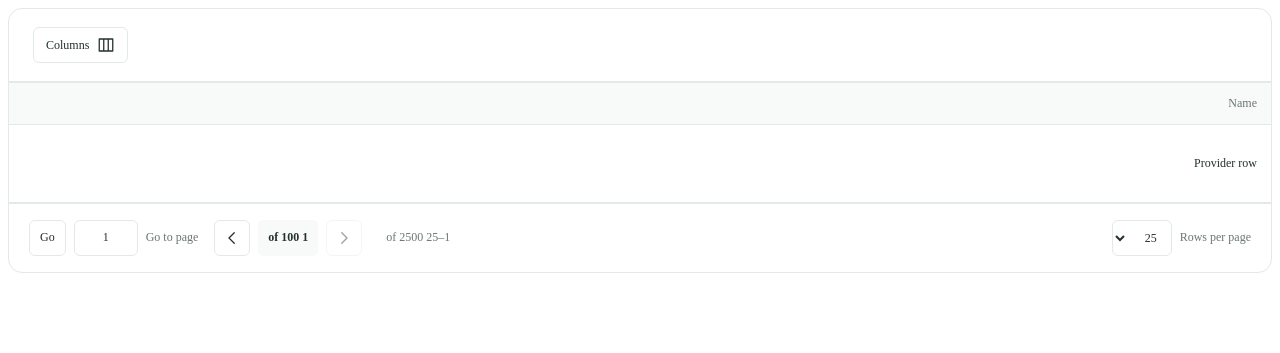
Test: SmartDataTable › requests only the committed target page and blocks pagination while that request is pending
Replace the text in the field labelled "Go to page" with "۳": (106, 238) [74, 220, 138, 256]
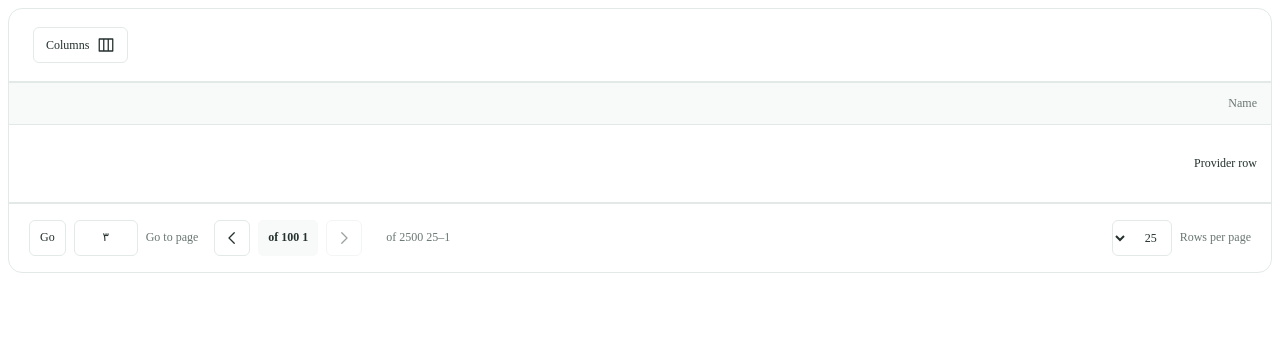
Replace the text in the field labelled "Go to page" with "۳۰": (106, 238) [74, 220, 138, 256]
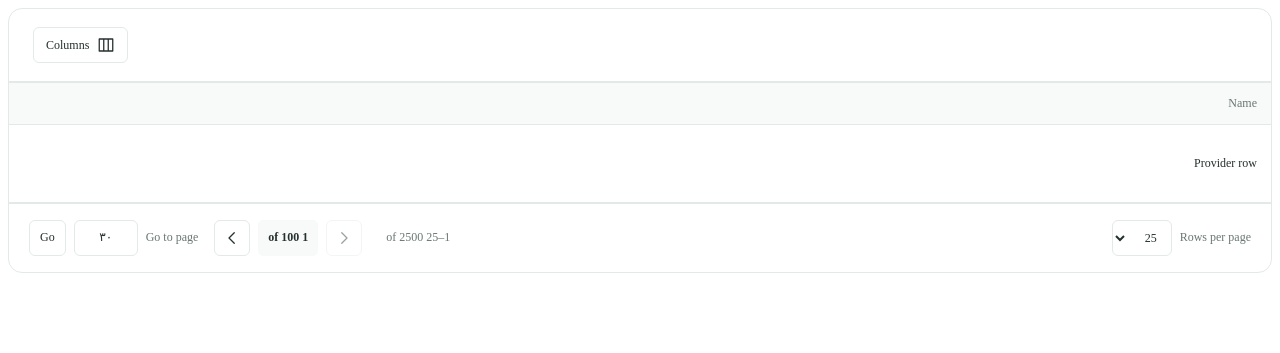
Submit the form, box [29, 220, 198, 256]
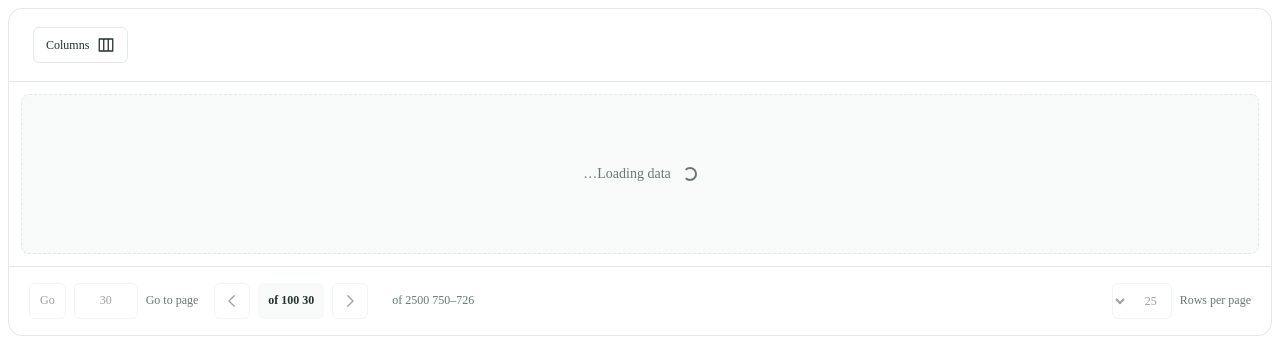
Result: the field labelled "Go to page" is disabled
Replace the text in the field labelled "Go to page" with "40": (106, 301) [74, 283, 138, 319]
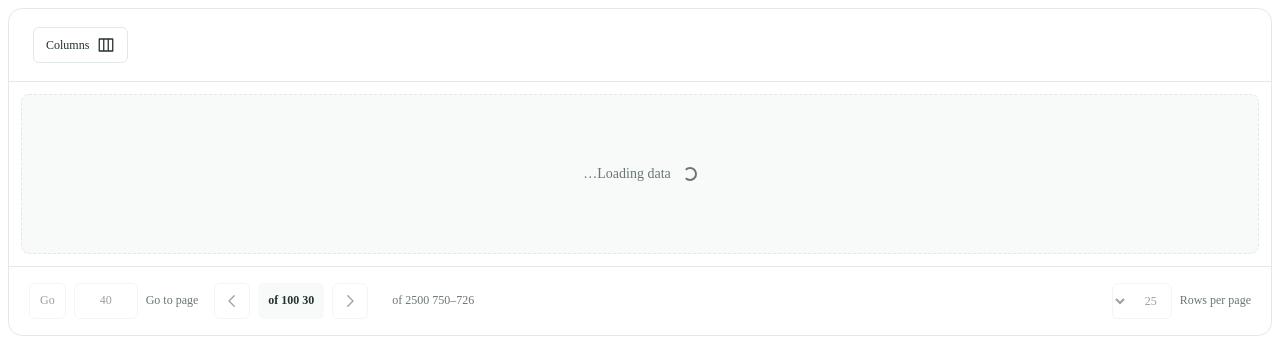
Submit the form, box [29, 283, 198, 319]
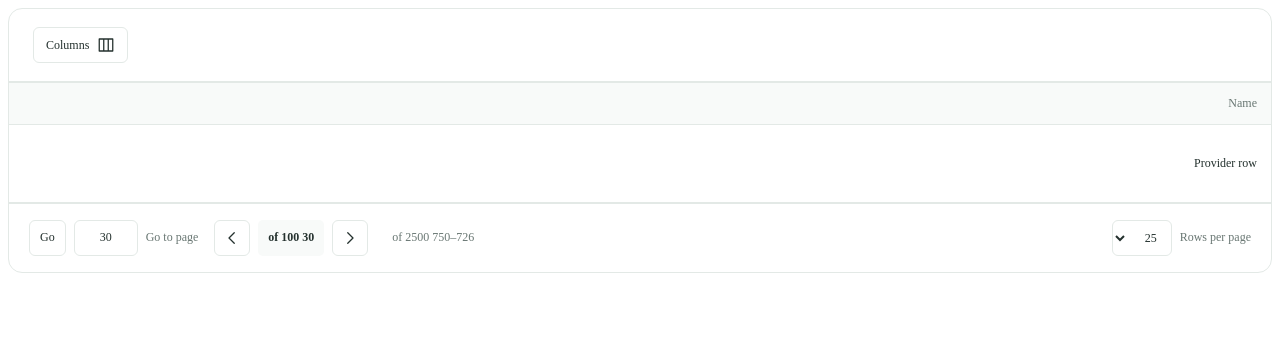
Result: the field labelled "Go to page" is enabled at [74, 220, 138, 256]
